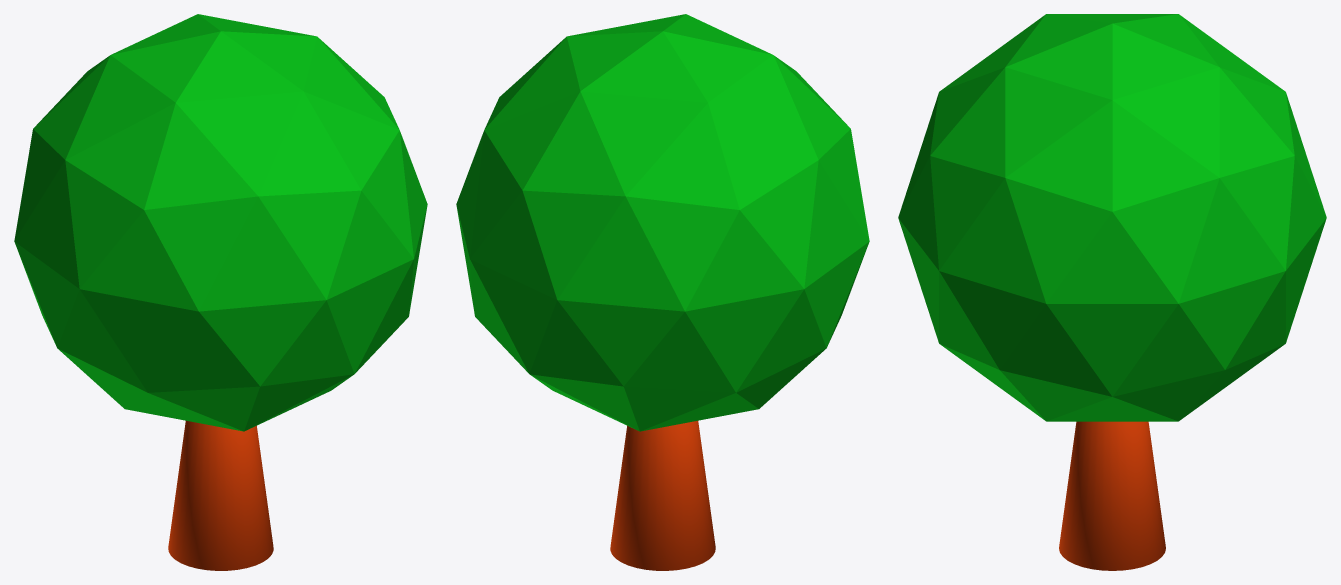
Rendered from tree2.fbx.
3 views of the same model, side by side, from view 1: azimuth 30°, elevation 25°; view 2: azimuth 150°, elevation 25°; view 3: azimuth 270°, elevation 25° (orthographic).
Parts seen in each view (by area): view 1: Icosphere, Cylinder; view 2: Icosphere, Cylinder; view 3: Icosphere, Cylinder.
Part boxes in pixels (x1,y1,x2,y2): Icosphere: (14, 14, 427, 431); Cylinder: (168, 420, 273, 570); Icosphere: (456, 14, 869, 431); Cylinder: (610, 420, 715, 570); Icosphere: (898, 14, 1326, 421); Cylinder: (1059, 421, 1165, 570).
Bounding box in the file's own units: 76.08 × 108 × 80.
